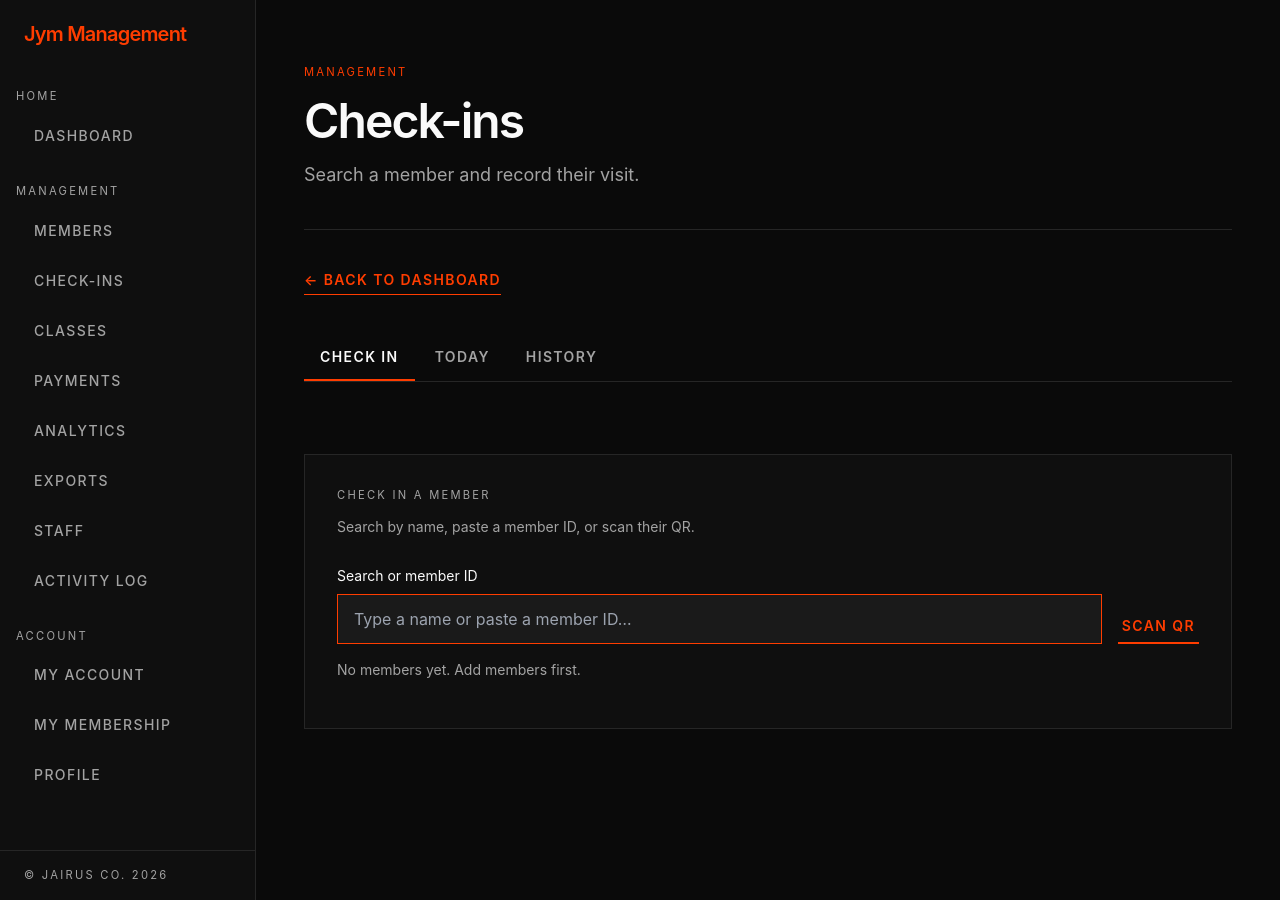
it: CheckInsPage › renders the empty state when there are no members or check-ins
Check: the search field with placeholder "Type a name or paste a member ID…" is shown, box [337,594,1102,644]
Check: the text "No members yet. Add members first." is shown, box [337,661,581,678]
Click the tab "Today" at x=462, y=358, box [419,335,506,381]
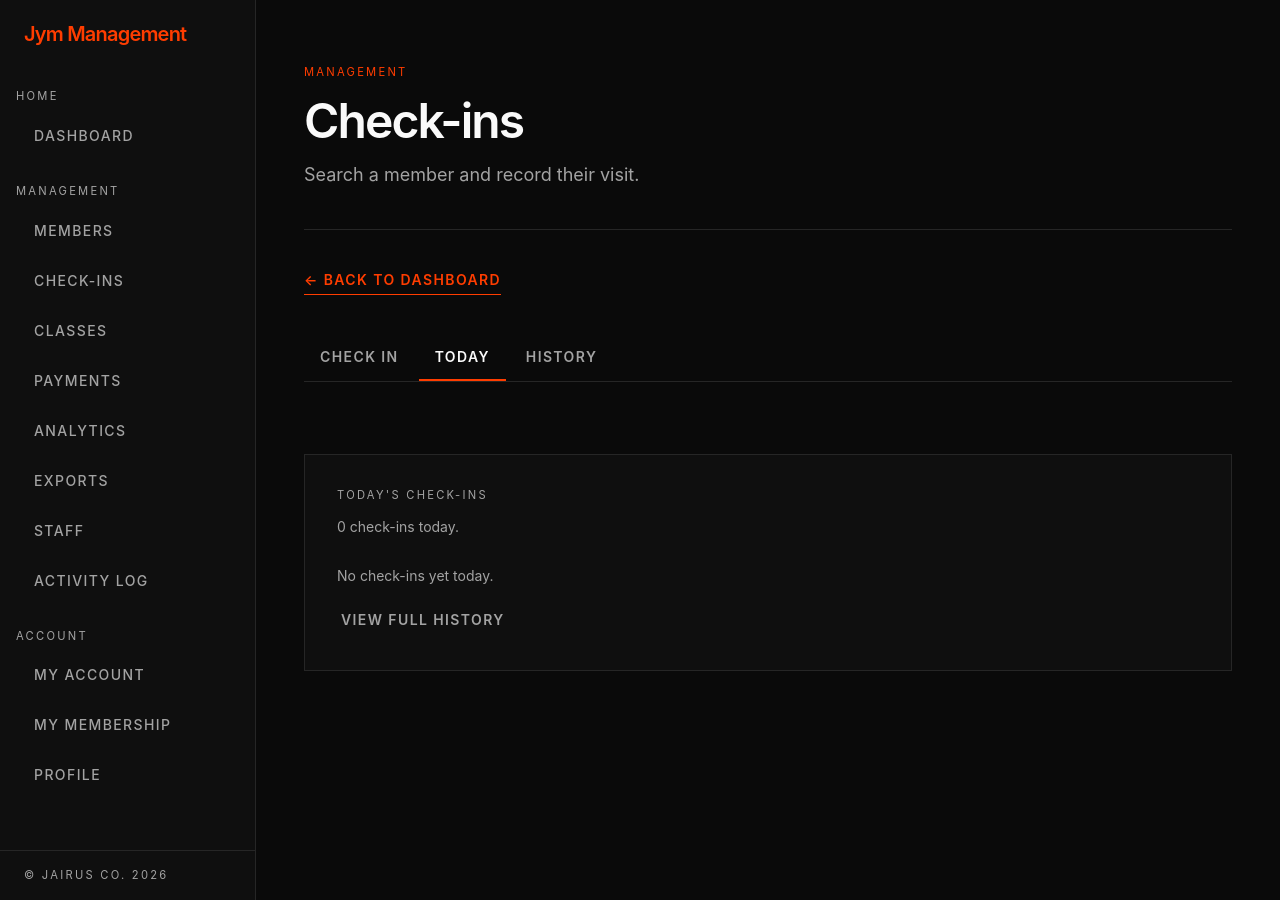
Check: the text "No check-ins yet today." is shown, box [337,567,493,584]
